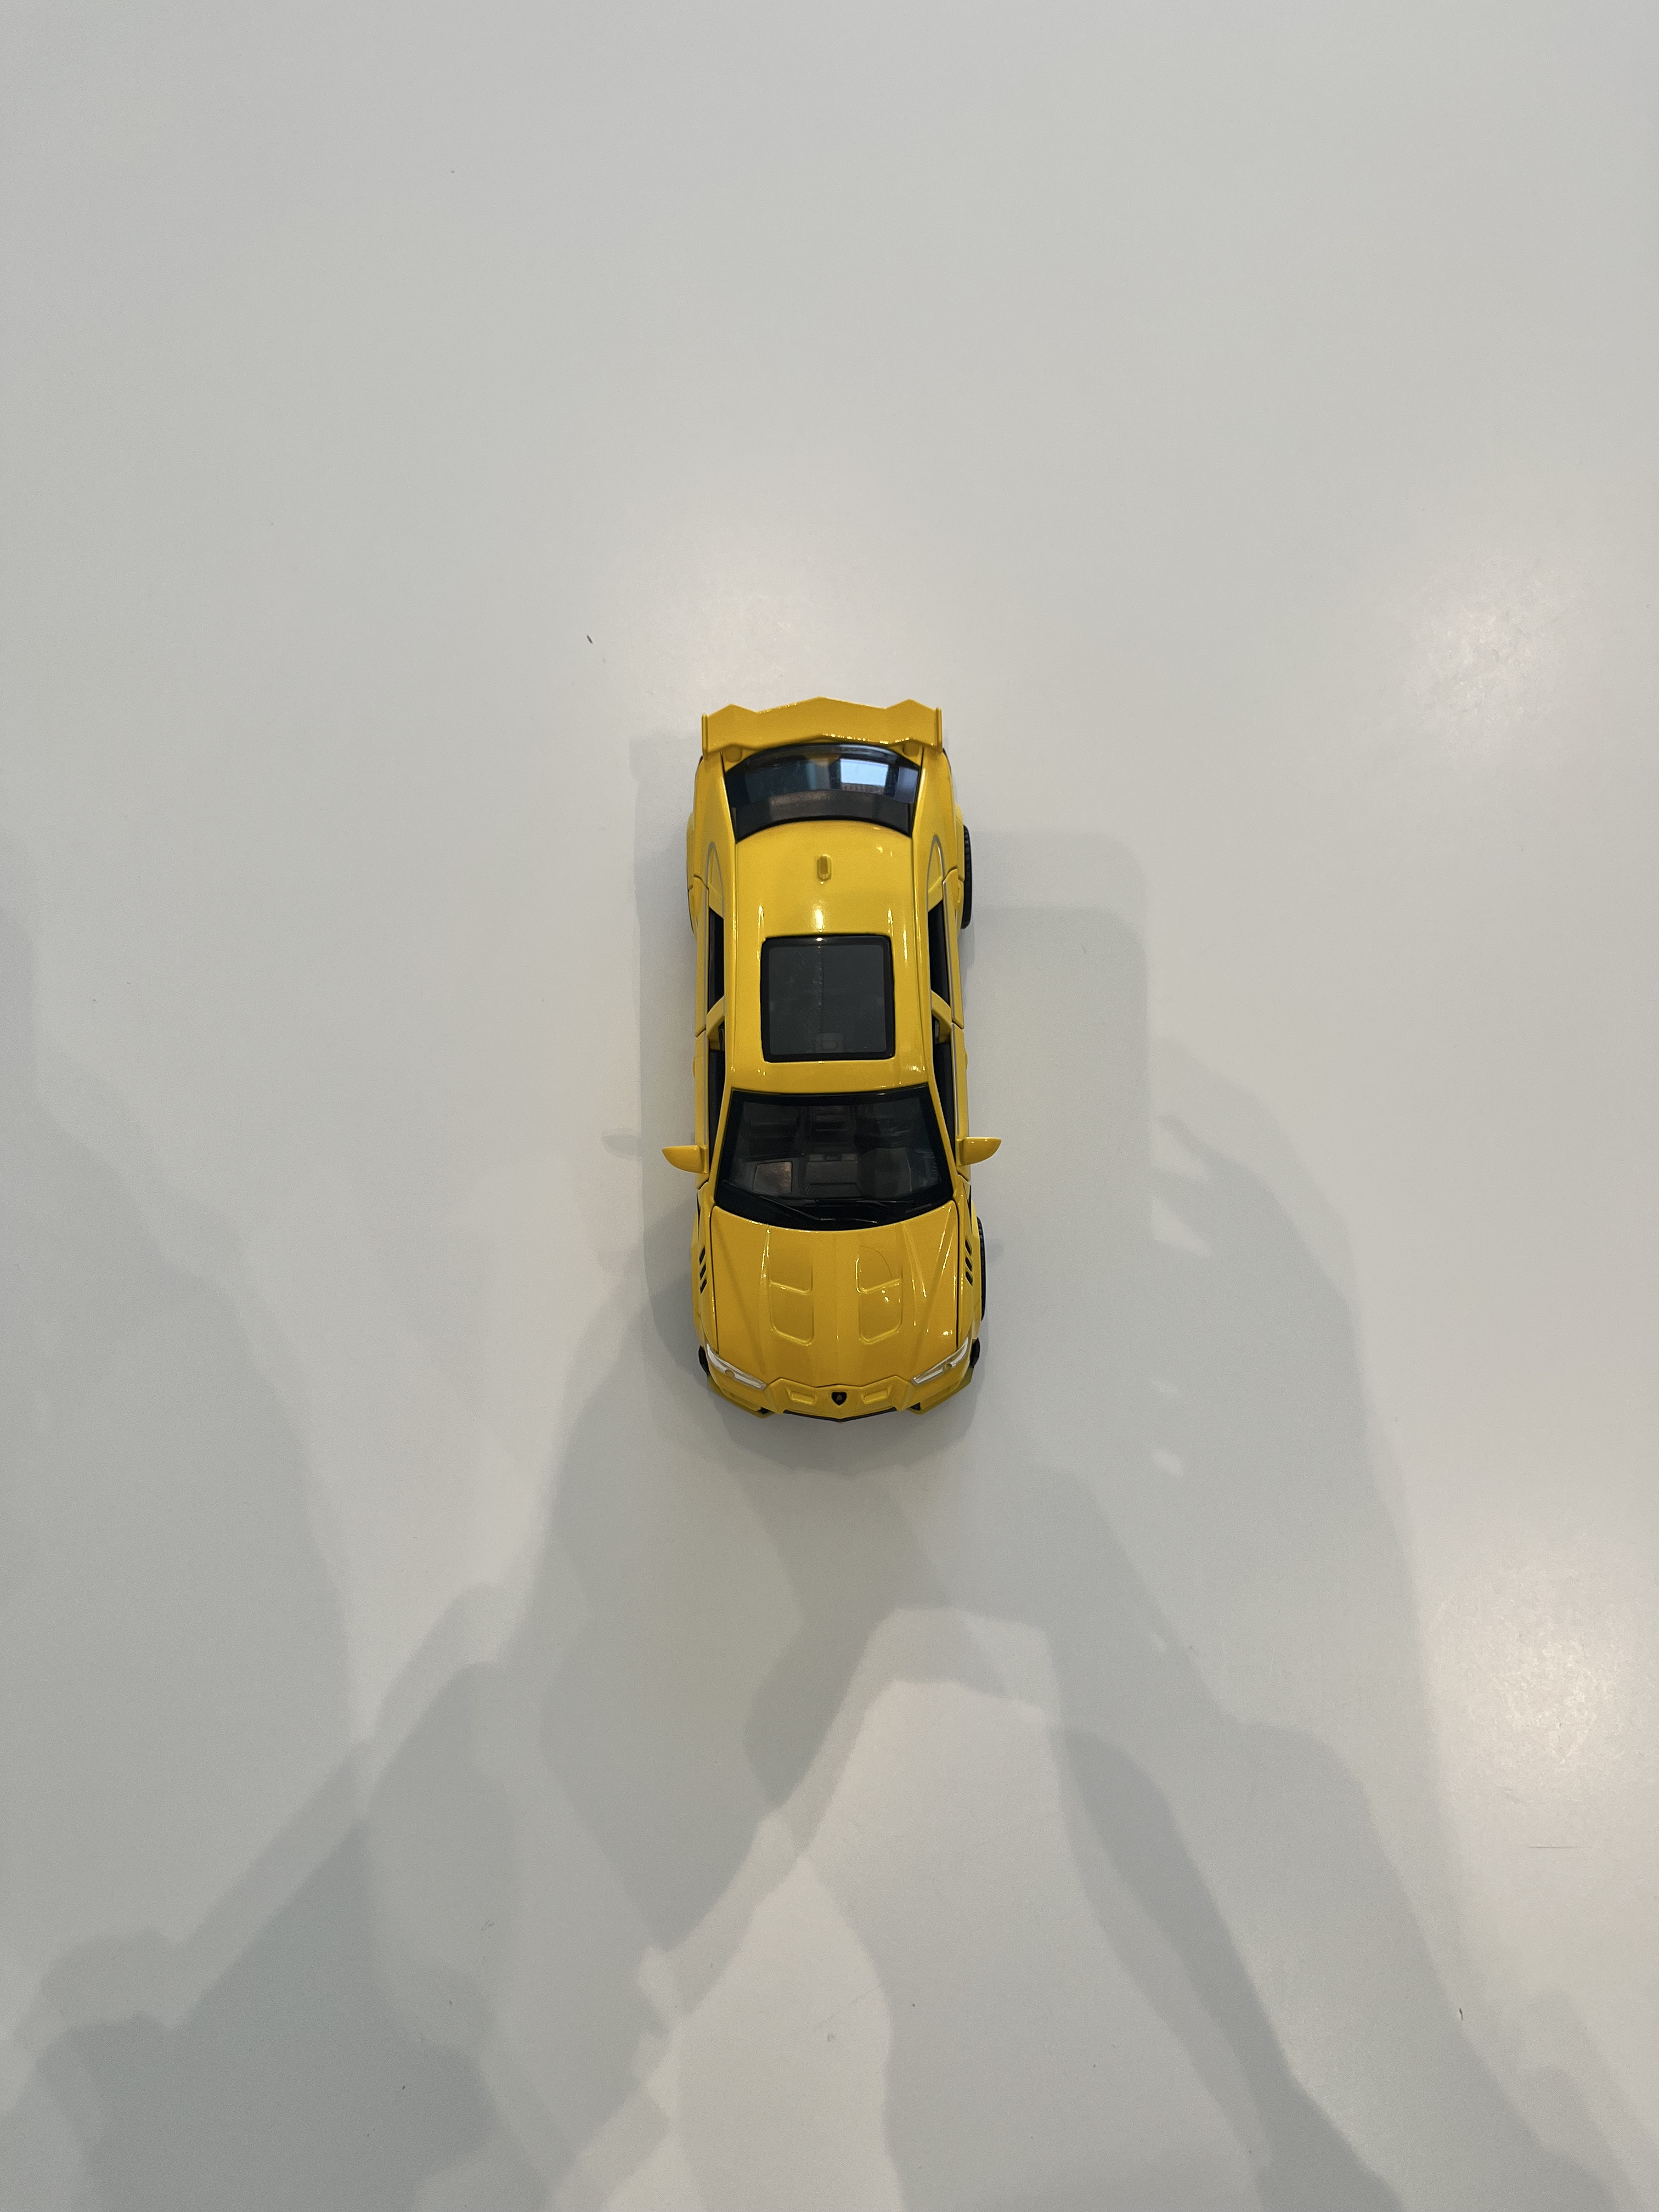lambo: (673, 664, 1021, 1444)
